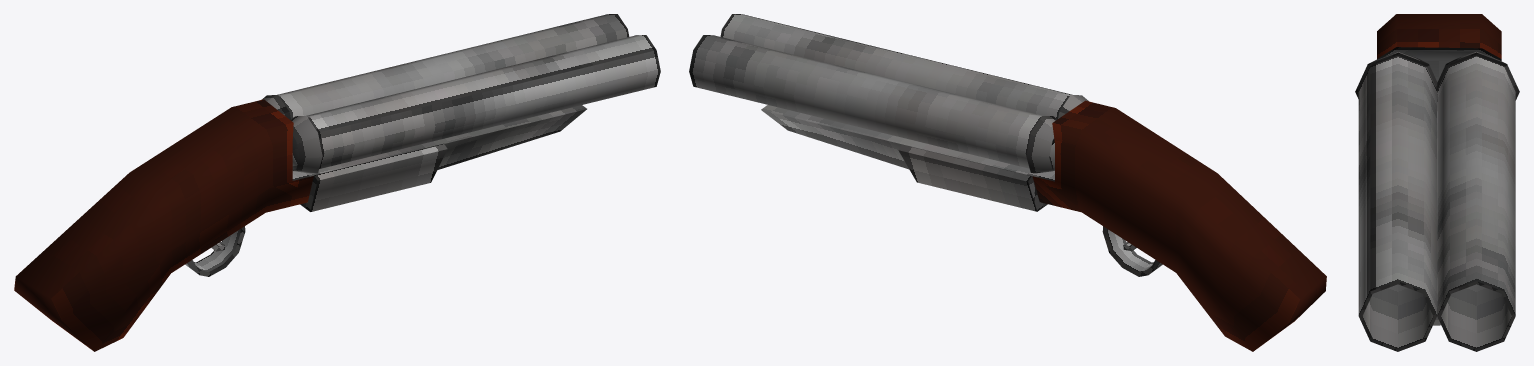
Rendered from shotgun.FBX.
3 renders of one model, left to right at view 1: azimuth 30°, elevation 25°; view 2: azimuth 150°, elevation 25°; view 3: azimuth 270°, elevation 25°, orthographic. The views are drawn at different scales.
Parts seen in each view (by area): view 1: Shotgun skud del; view 2: Shotgun skud del; view 3: Shotgun skud del.
Boxes of the visible parts, x1,y1,x2,y2 form: Shotgun skud del: [14, 14, 660, 351]; Shotgun skud del: [689, 14, 1326, 351]; Shotgun skud del: [1355, 14, 1519, 351].
Size of the model in its own units: 66.63 by 19.16 by 11.61.
